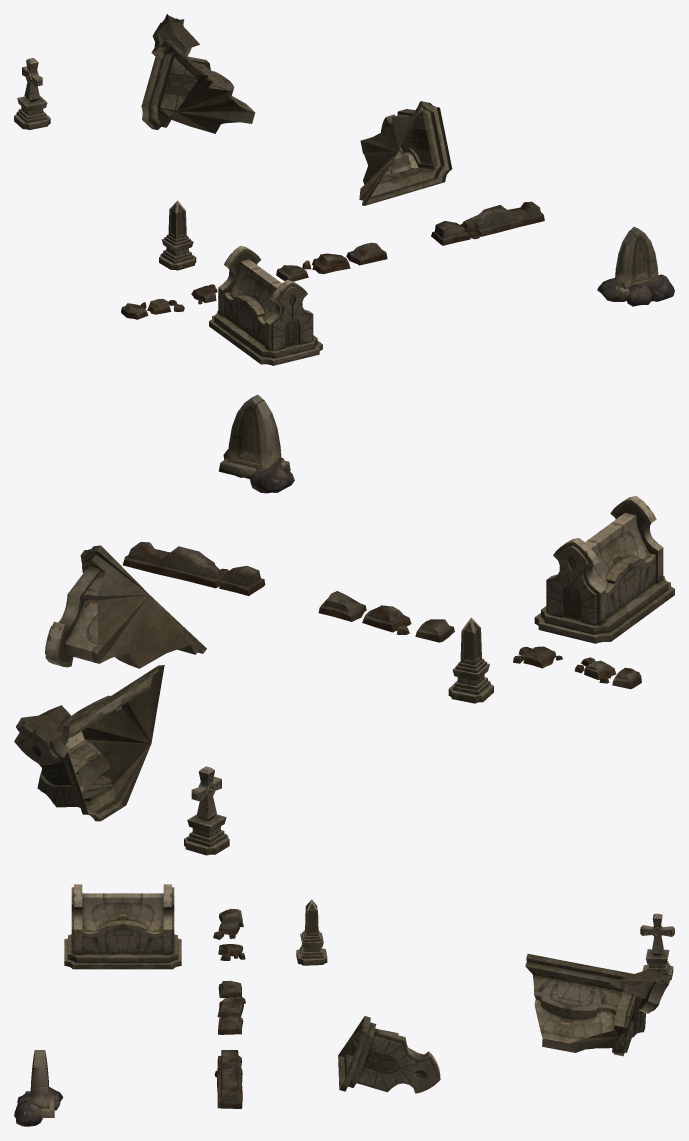
The model's file is mesh_raid3_prop3.FBX.
3 views of the same model, one above another, from view 1: azimuth 30°, elevation 25°; view 2: azimuth 150°, elevation 25°; view 3: azimuth 270°, elevation 25° (orthographic). The views are drawn at different scales.
Visible parts, largest first — view 1: mesh_raid3_prop3; view 2: mesh_raid3_prop3; view 3: mesh_raid3_prop3.
Part boxes in pixels (x1,y1,x2,y2): mesh_raid3_prop3: (14,14,674,365); mesh_raid3_prop3: (14,394,674,855); mesh_raid3_prop3: (14,884,674,1126).
Bounding box in the file's own units: 16.76 × 3.27 × 22.64.
